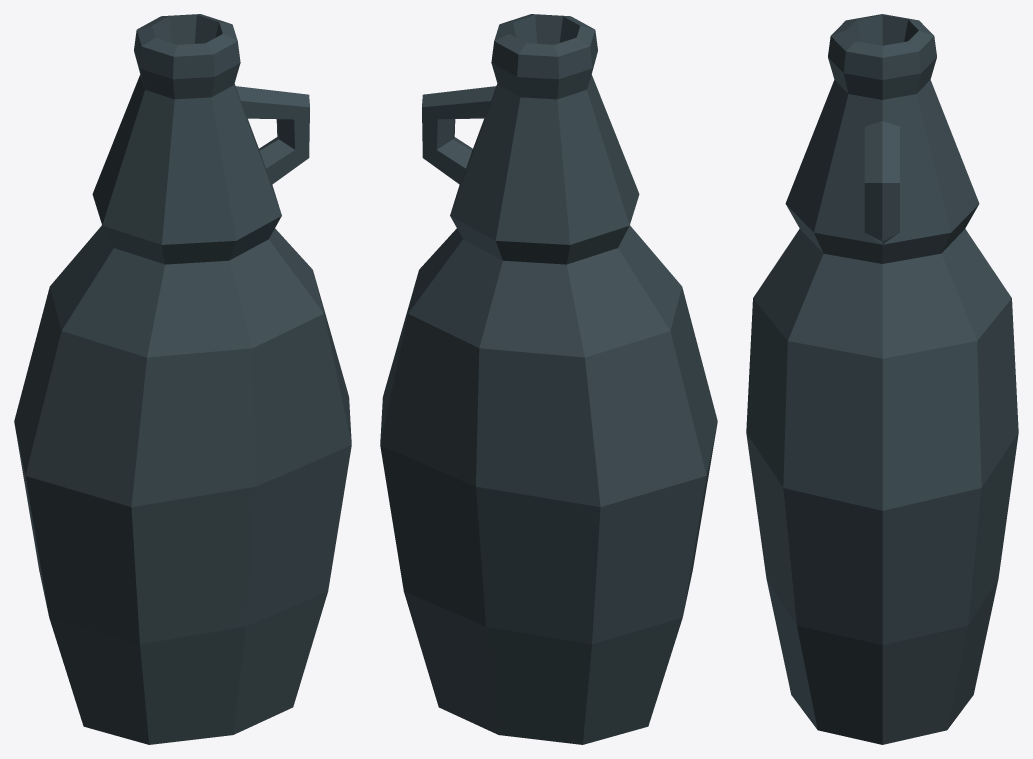
Rendered from food_jar-syrup-empty.fbx.
The picture shows the model from 3 angles, left to right: view 1: azimuth 30°, elevation 25°; view 2: azimuth 150°, elevation 25°; view 3: azimuth 270°, elevation 25°; orthographic projection.
Parts seen in each view (by area): view 1: food_jar_syrup_empty; view 2: food_jar_syrup_empty; view 3: food_jar_syrup_empty.
Part boxes in pixels (left/top/right/bottom): food_jar_syrup_empty: left=14, top=14, right=351, bottom=744; food_jar_syrup_empty: left=380, top=14, right=717, bottom=744; food_jar_syrup_empty: left=746, top=14, right=1018, bottom=744.
Bounding box in the file's own units: 99.72 × 200 × 73.45.
